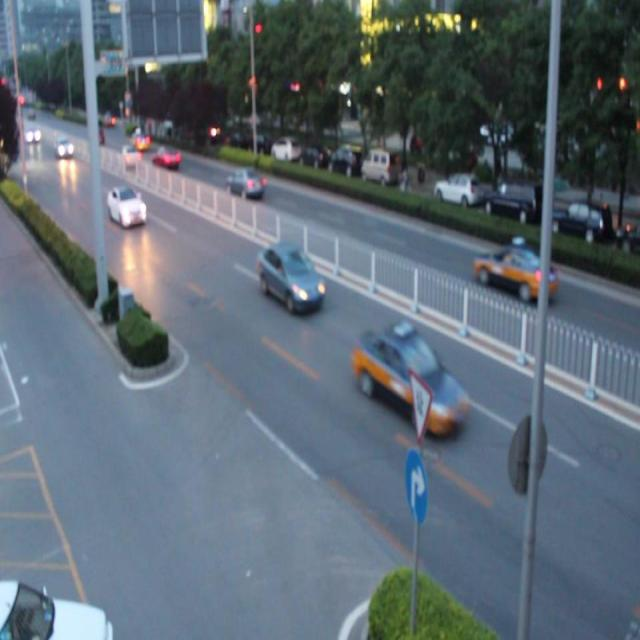car: (354, 323, 468, 433), (1, 576, 113, 640), (474, 242, 556, 300), (257, 243, 323, 310), (107, 187, 146, 227), (226, 169, 264, 197), (152, 147, 180, 168)
